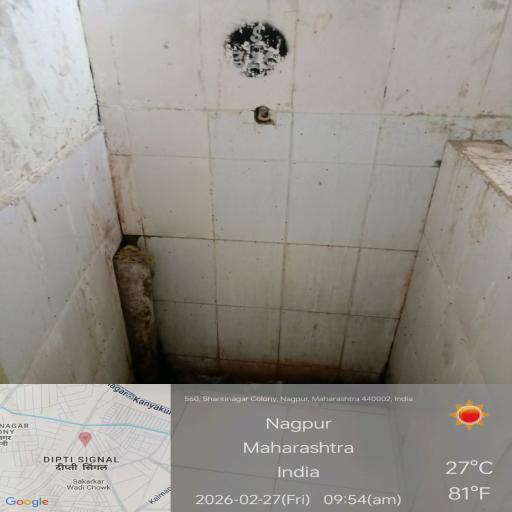partial_dirty_floor: (42, 16, 466, 465)
